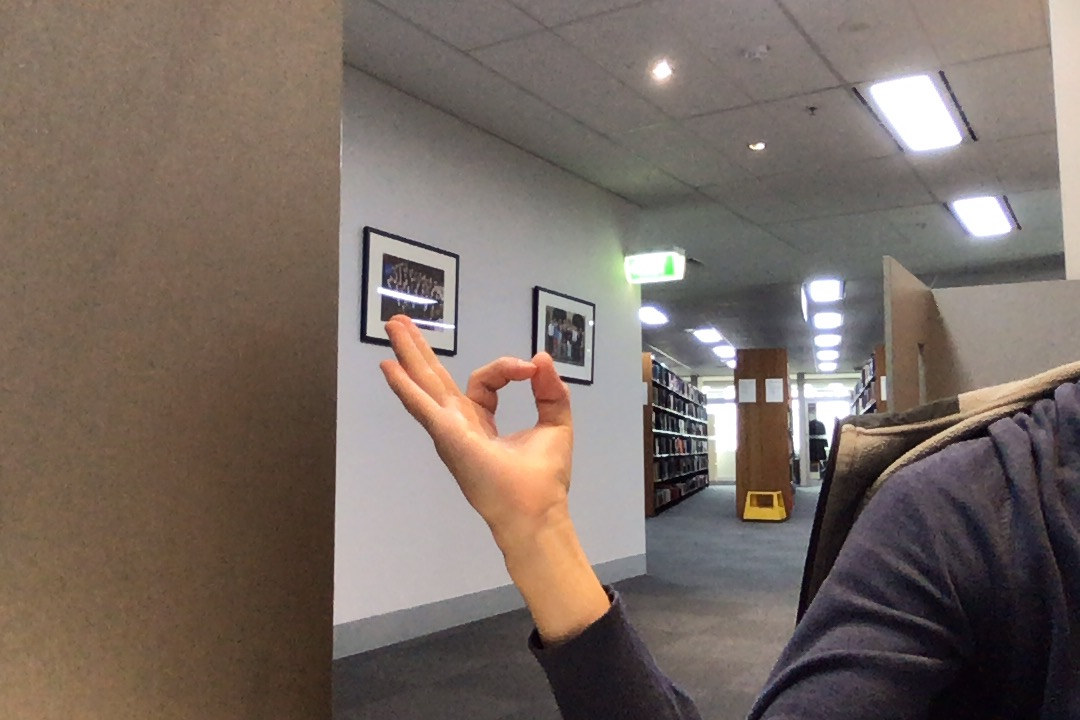oksign: (369, 306, 584, 531)
